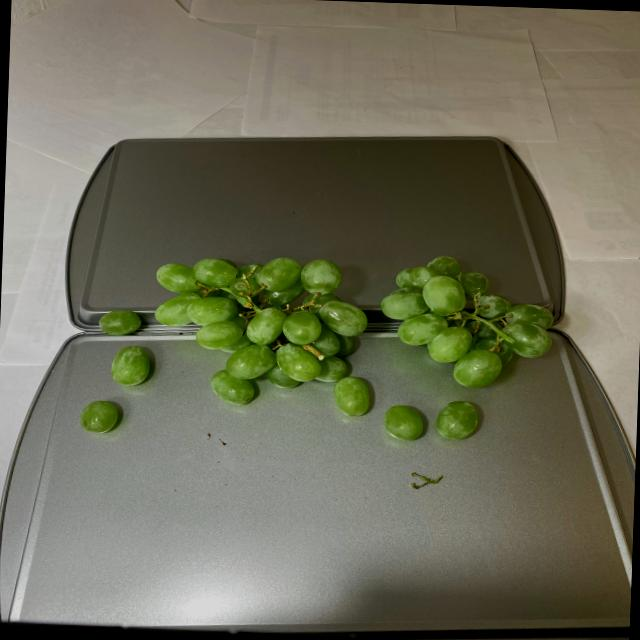grapes: (78, 246, 554, 454)
